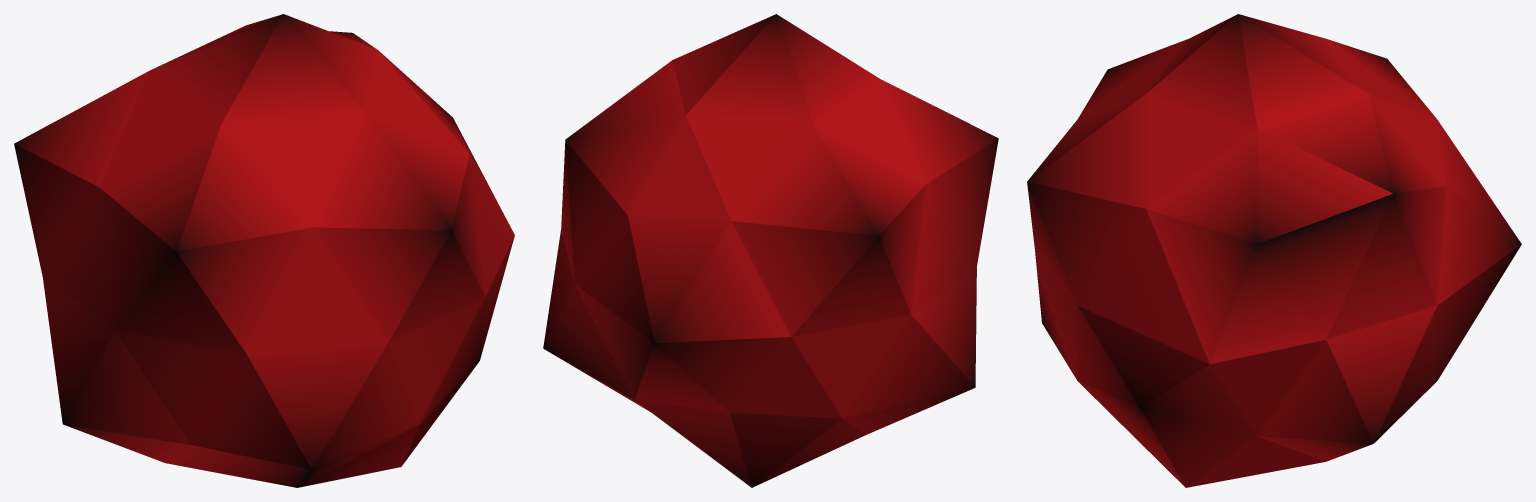
File: enemy 2.fbx
3 renders of one model, left to right at view 1: azimuth 30°, elevation 25°; view 2: azimuth 150°, elevation 25°; view 3: azimuth 270°, elevation 25°, orthographic. The views are drawn at different scales.
Visible parts, largest first — view 1: Icosphere; view 2: Icosphere; view 3: Icosphere.
Part boxes in pixels (left/top/right/bottom): Icosphere: left=14, top=14, right=514, bottom=487; Icosphere: left=543, top=14, right=998, bottom=487; Icosphere: left=1027, top=14, right=1521, bottom=487.
Bounding box in the file's own units: 215 × 218 × 222.
